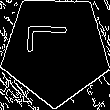L_E: (31, 33, 80, 66)
